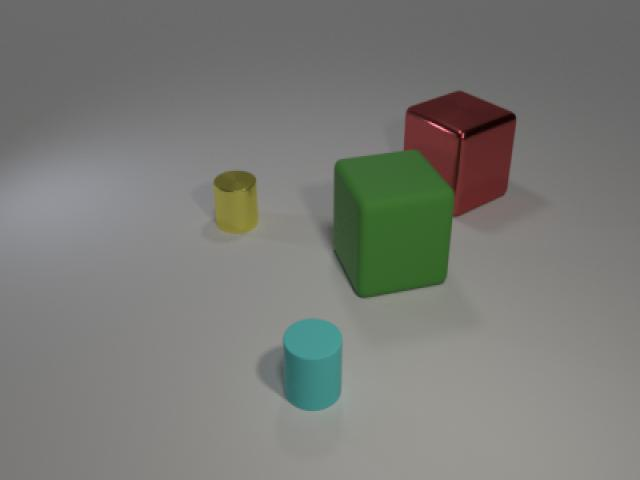cylinder: (276, 311, 352, 416), (205, 162, 264, 240)
